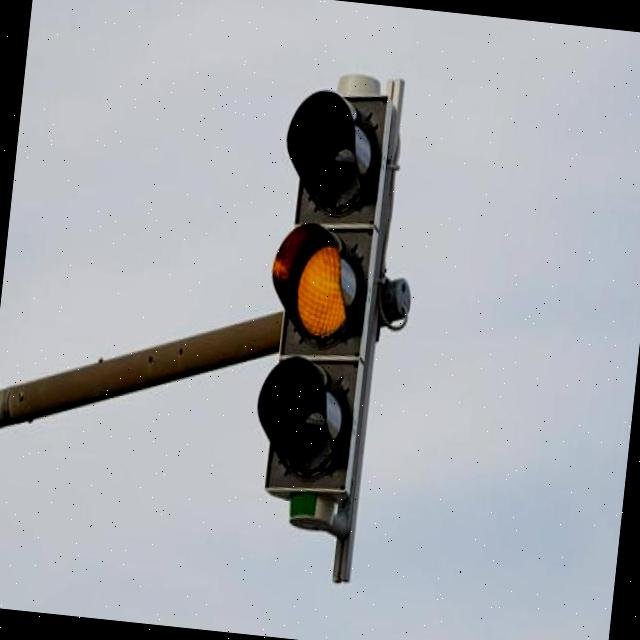yellow_light: (262, 82, 387, 494)
